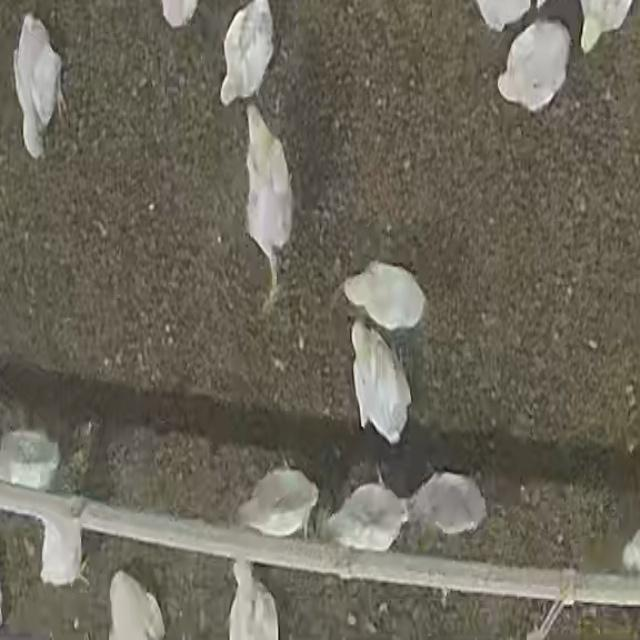chicken: (237, 102, 297, 276), (350, 318, 411, 440), (500, 23, 570, 115), (15, 15, 60, 157), (322, 482, 410, 554), (339, 259, 430, 328), (219, 0, 275, 108), (408, 471, 488, 538), (246, 470, 316, 546), (225, 561, 280, 640), (108, 573, 166, 639), (36, 514, 82, 588), (577, 0, 632, 50)
